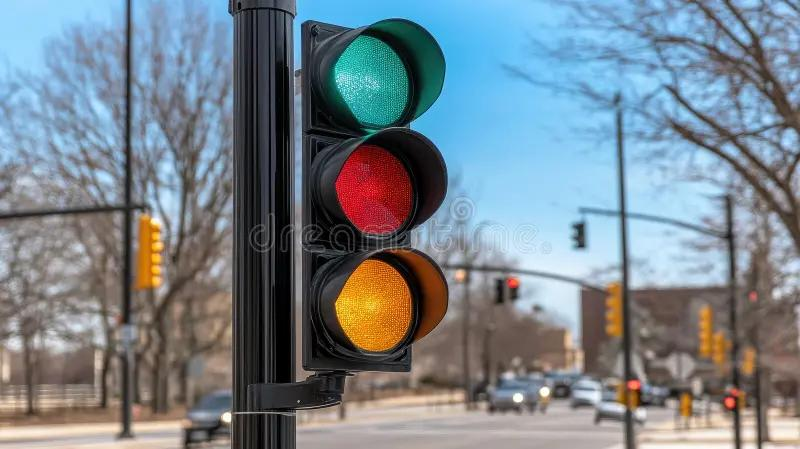traffic light: (194, 4, 467, 427)
